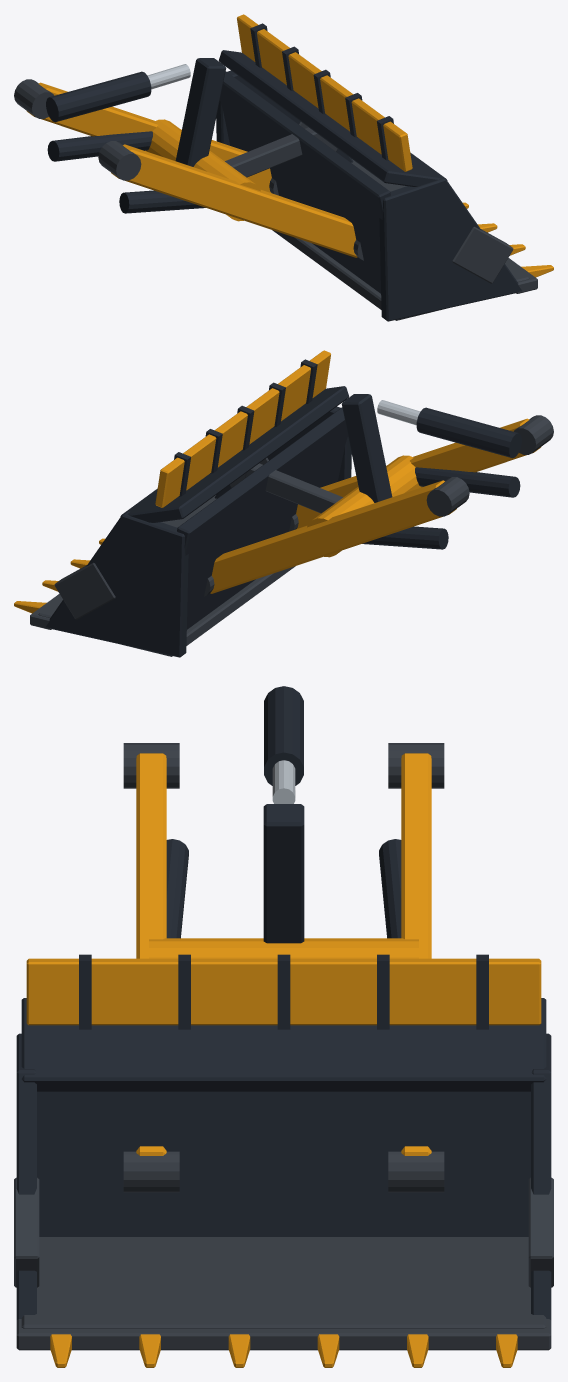
Rendered from wheel_loader_bucket.glb.
The picture shows the model from 3 angles, top to bottom: view 1: azimuth 30°, elevation 25°; view 2: azimuth 150°, elevation 25°; view 3: azimuth 270°, elevation 25°; orthographic projection. The views are drawn at different scales.
Visible parts, largest first — view 1: WLB_BucketBack, WLB_CrossTube, WLB_BucketFloor, WLB_LiftRod_L; view 2: WLB_BucketBack, WLB_CrossTube, WLB_BucketFloor, WLB_LiftRod_L; view 3: WLB_BucketBack, WLB_BucketFloor, WLB_CrossTube, WLB_LiftRod_L.
Part boxes in pixels (x1,y1,x2,y2): WLB_BucketBack: [46, 23, 521, 321]; WLB_CrossTube: [27, 14, 553, 277]; WLB_BucketFloor: [14, 79, 537, 320]; WLB_LiftRod_L: [147, 64, 190, 89]; WLB_BucketBack: [46, 359, 521, 657]; WLB_CrossTube: [14, 350, 540, 613]; WLB_BucketFloor: [30, 415, 553, 656]; WLB_LiftRod_L: [377, 400, 420, 425]; WLB_BucketBack: [16, 686, 551, 1319]; WLB_BucketFloor: [14, 743, 553, 1350]; WLB_CrossTube: [26, 753, 541, 1367]; WLB_LiftRod_L: [272, 760, 295, 803].
Bounding box in the file's own units: 3.06 × 1.57 × 2.12.
